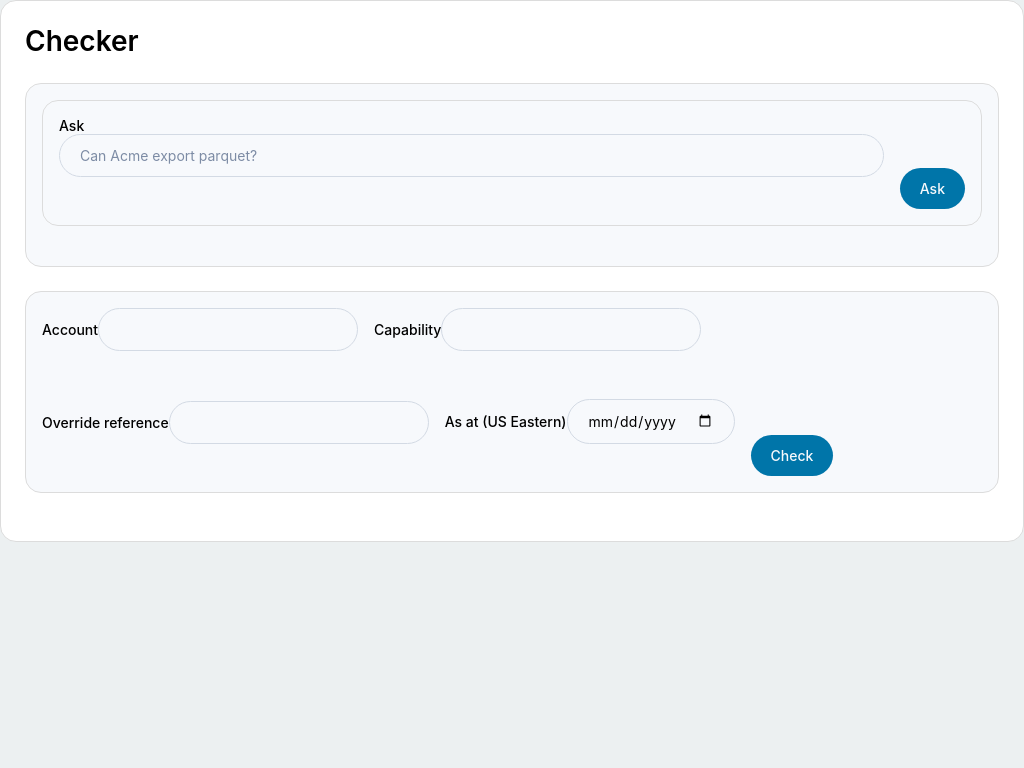
Test: 002 — the past on screen 4 › says plainly which of the three refusals it was
Type "acct_9931" into the field labelled "Account".
click(228, 329); type("acct_9931")  # box [98, 308, 358, 351]
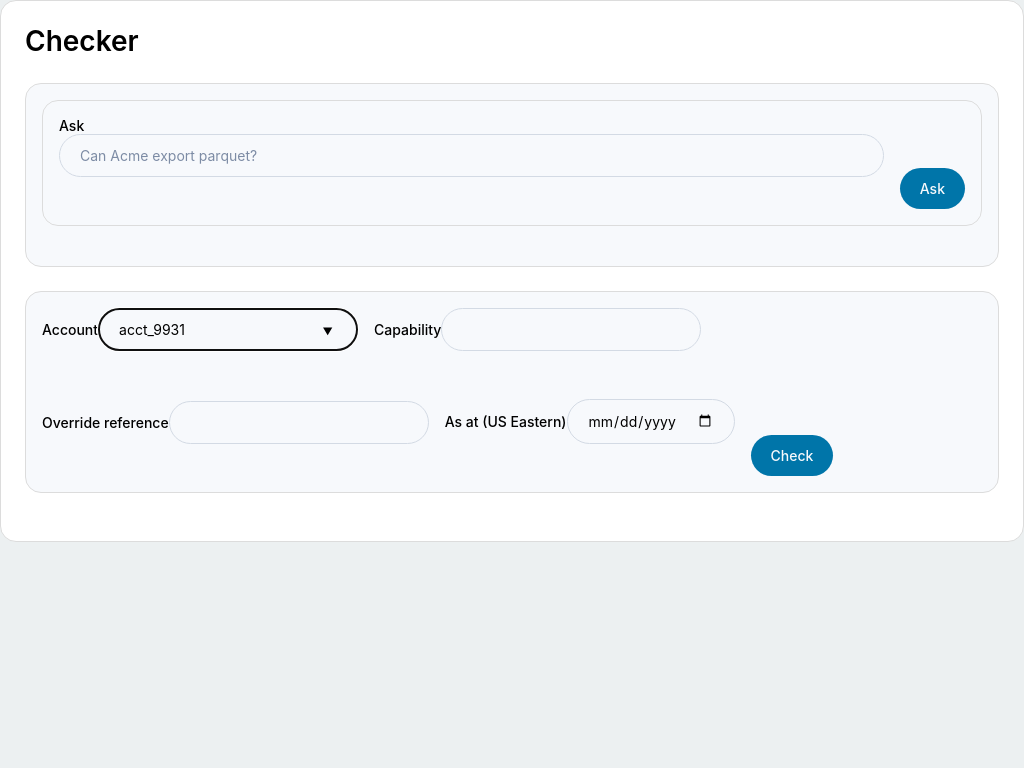
Type "reports.monthly" into the field labelled "Capability".
click(571, 329); type("reports.monthly")  # box [441, 308, 701, 351]
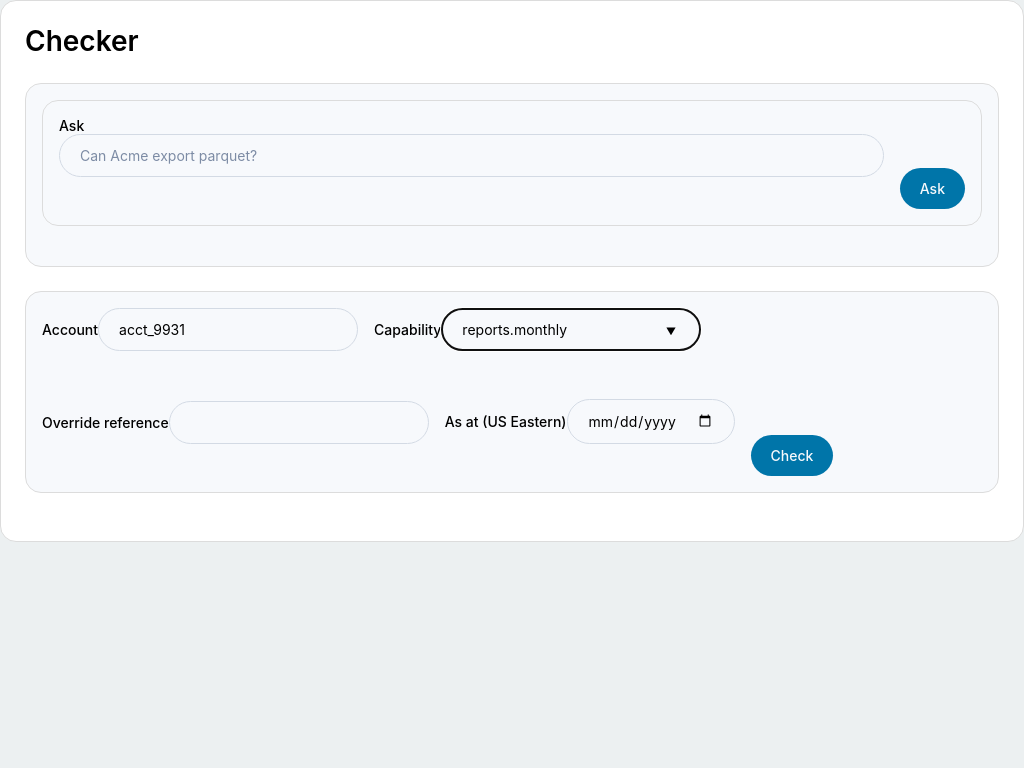
Click the button "Check".
click(792, 455)  # box [750, 435, 833, 476]
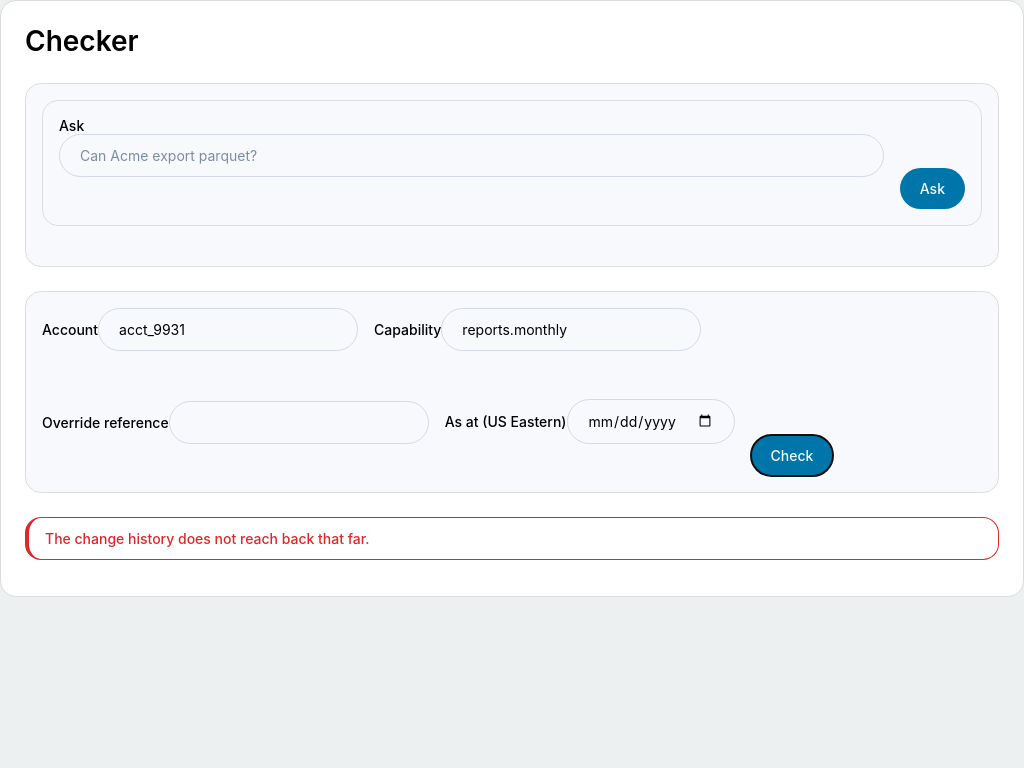
expect the text "The change history does not reach back that far." is shown: met, box [25, 517, 999, 560]
